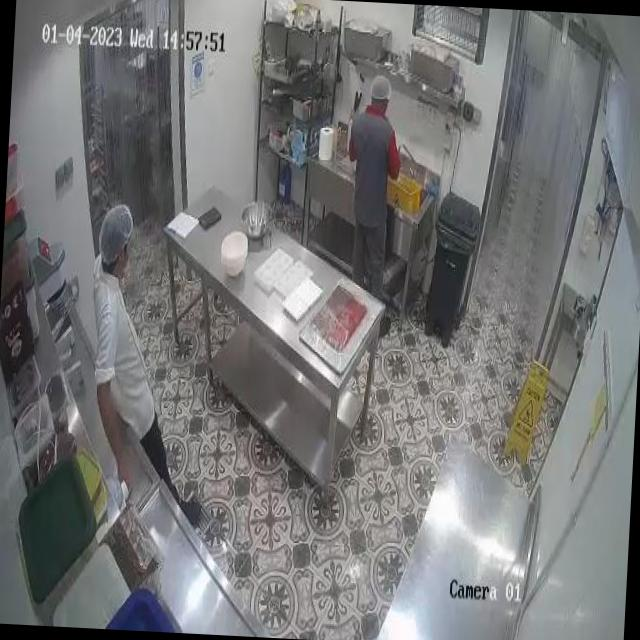hairnet: (101, 204, 131, 266), (370, 71, 395, 102)
